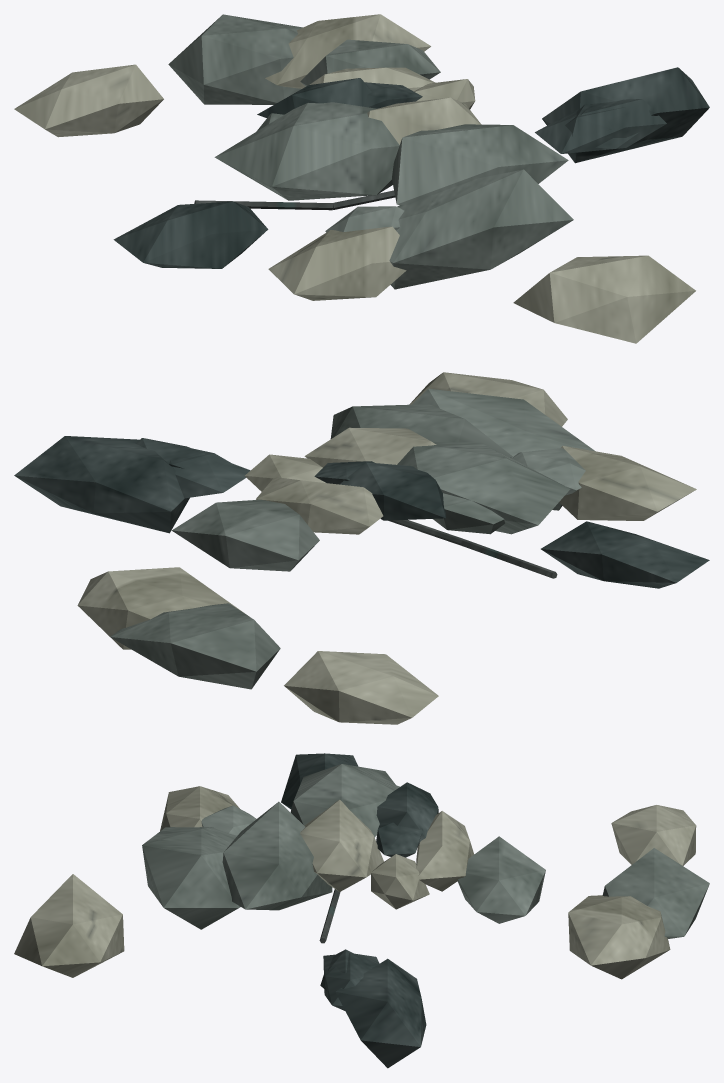
The model's file is 0118_scree_pile_18.glb.
The picture shows the model from 3 angles, top to bottom: view 1: azimuth 30°, elevation 25°; view 2: azimuth 150°, elevation 25°; view 3: azimuth 270°, elevation 25°; orthographic projection. The views are drawn at different scales.
Parts seen in each view (by area): view 1: stone, stone_light, stone_dark, iron; view 2: stone, stone_light, stone_dark, iron; view 3: stone, stone_light, stone_dark.
Boxes of the visible parts, x1,y1,x2,y2 form: stone: [168, 14, 573, 289]; stone_light: [14, 14, 695, 343]; stone_dark: [113, 67, 709, 268]; iron: [194, 190, 395, 210]; stone: [110, 388, 595, 689]; stone_light: [77, 372, 696, 724]; stone_dark: [14, 436, 709, 588]; iron: [388, 520, 557, 578]; stone: [142, 764, 709, 938]; stone_light: [14, 786, 696, 979]; stone_dark: [281, 753, 438, 1068].
Bounding box in the file's own units: 2.99 × 0.6143 × 3.18.
Materials: 4 (4 with a texture image).
